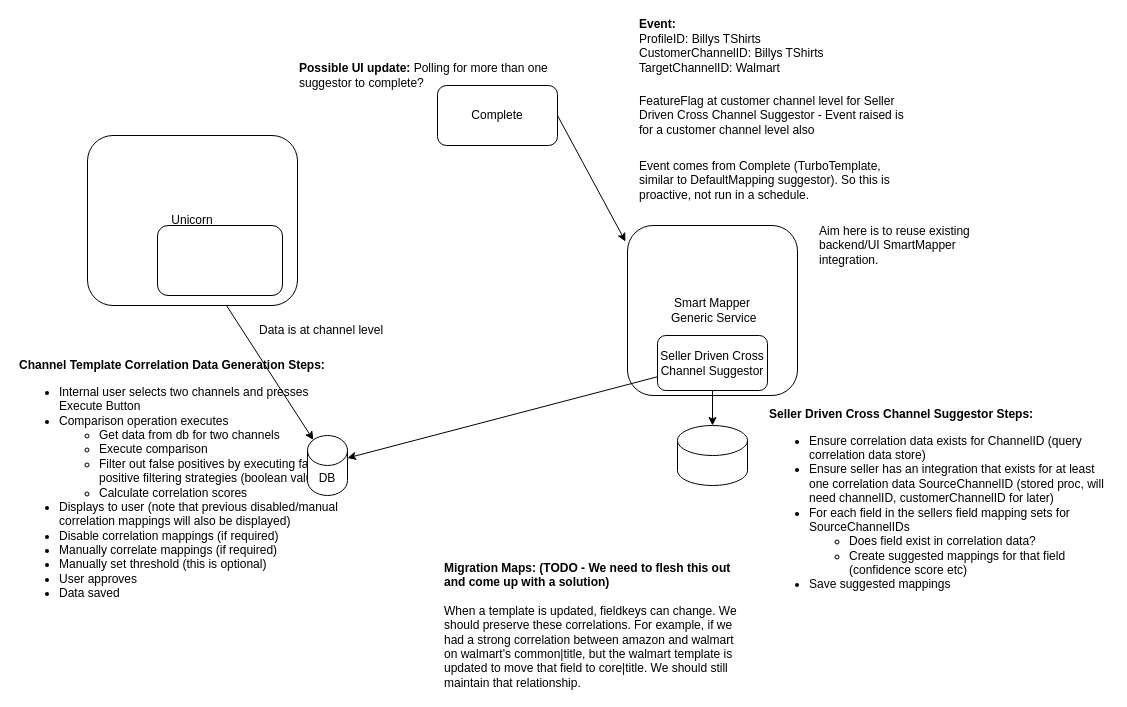
Some shapes in this 1127 by 707 pixel diagram are drawn without their labels. The centre of each missing label's shape, as x and y in pixels:
"Channel Template Correlation Data Generation" goes at [219,260].
"Complete DB" goes at [712,455].
